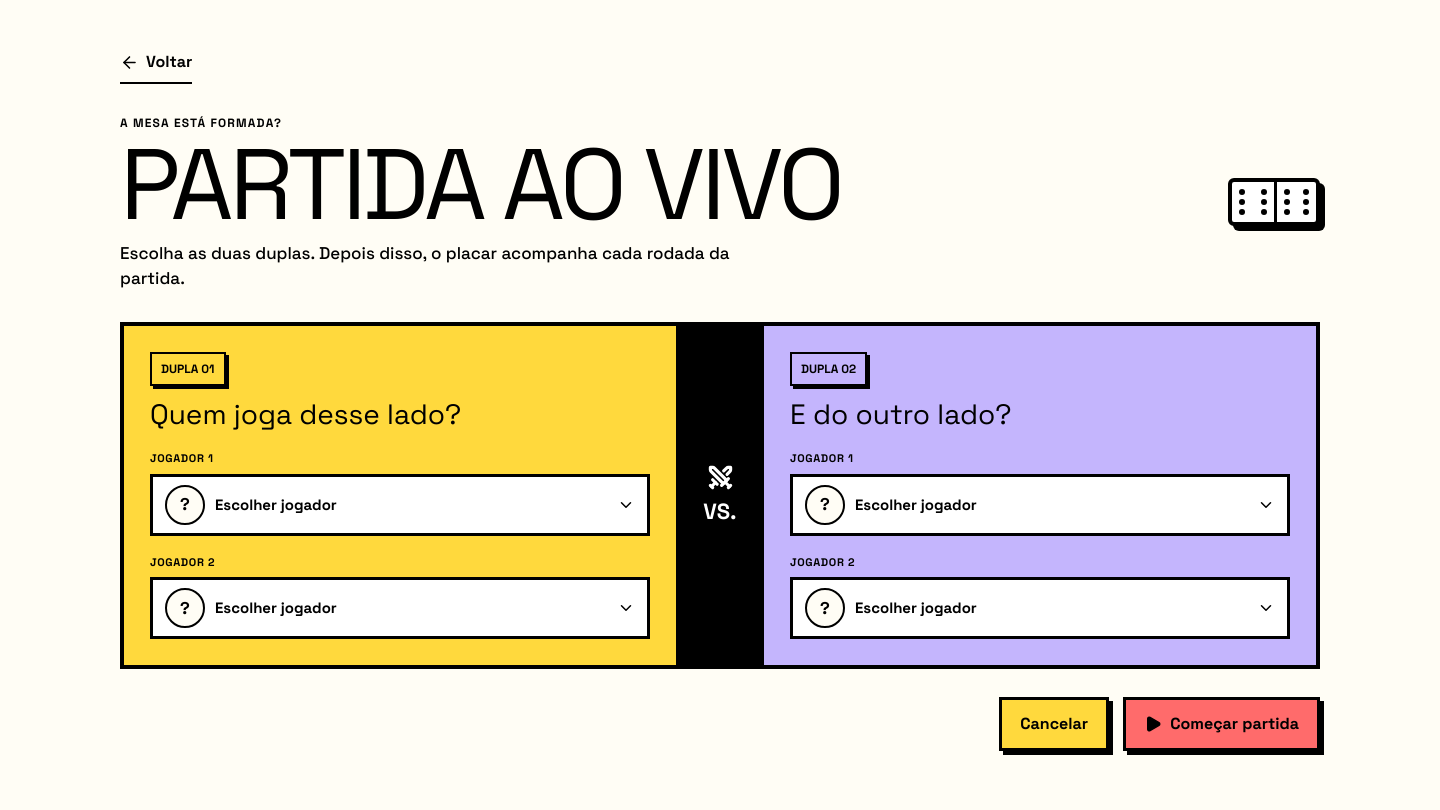
Scenario: LiveGameSetup › fecha o seletor pelo botão de fechar
Step 1. Click the 1st button "? Escolher jogador" → (185, 505), box [150, 474, 650, 536]
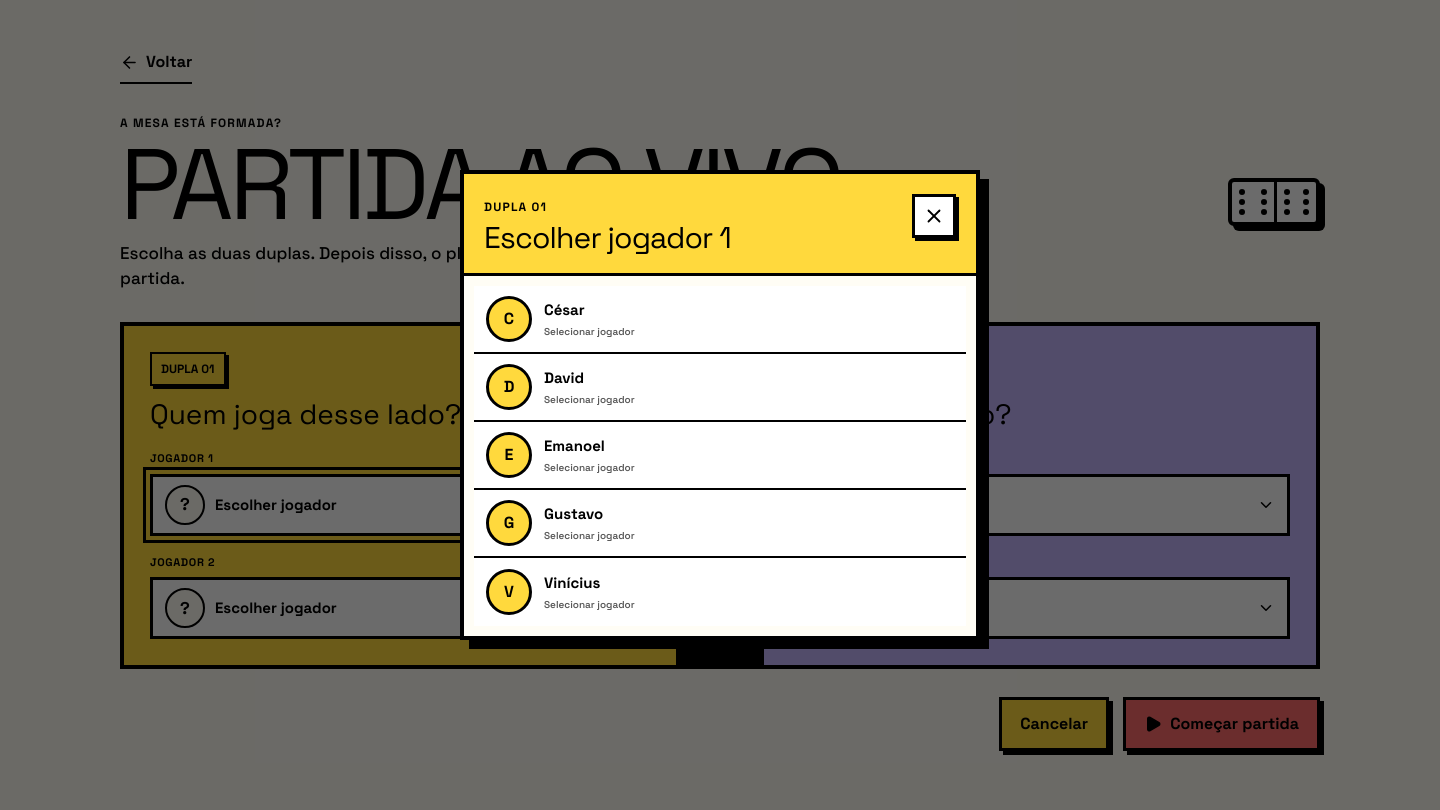
Expected: the dialog is shown, [460, 170, 980, 640]
Step 2. Click the button named "fechar" → (934, 216), box [912, 194, 956, 238]
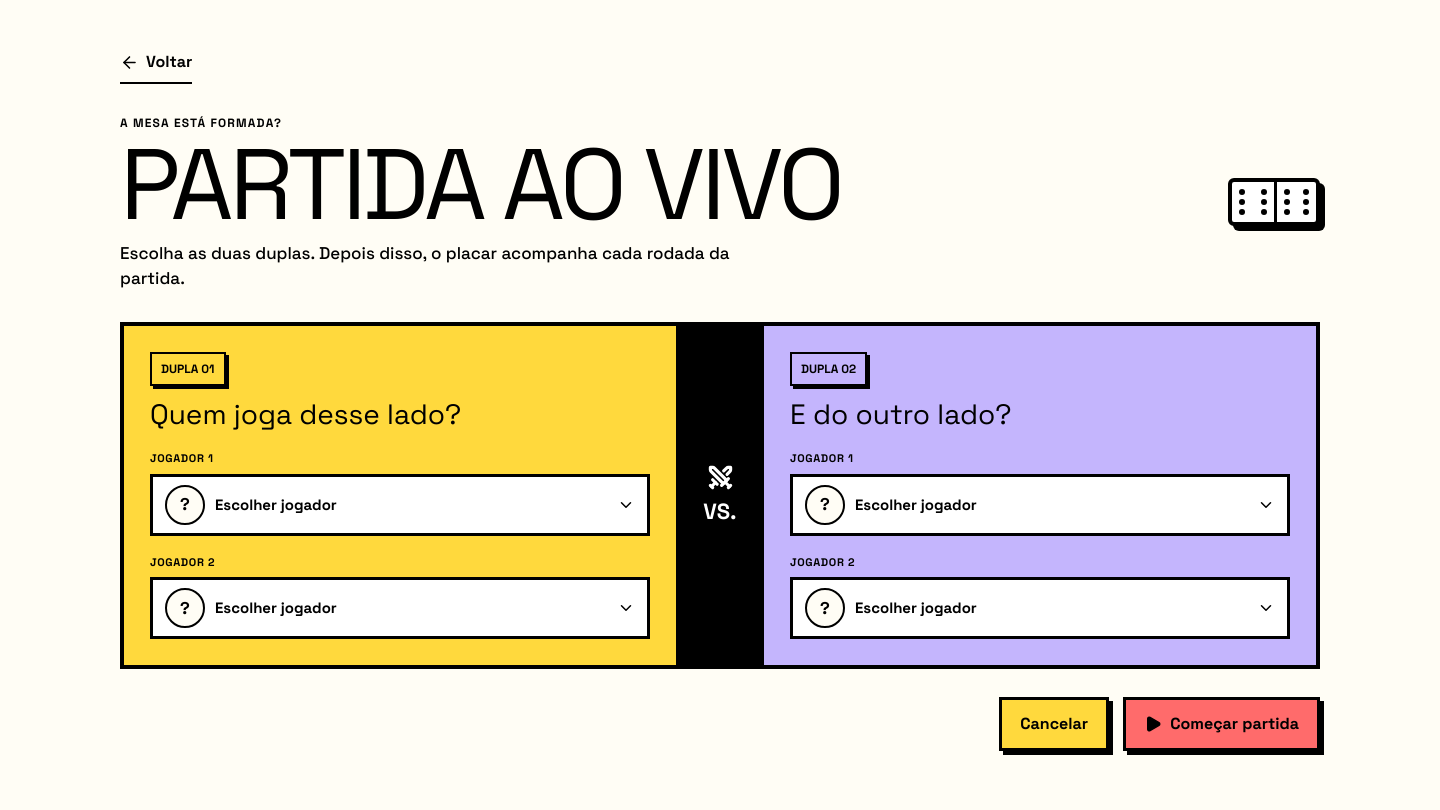
Expected: the dialog is gone
